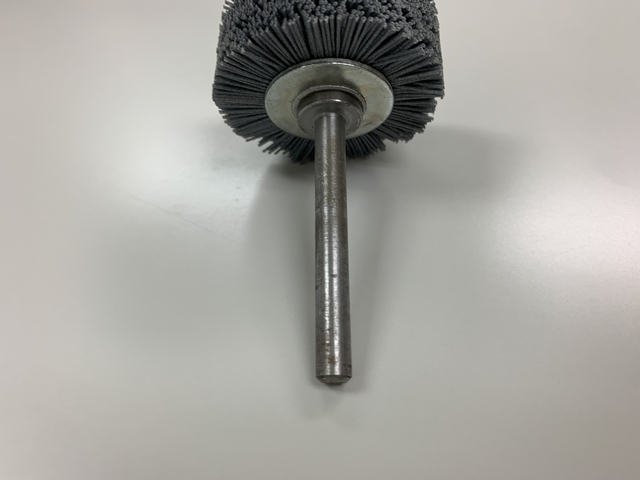Wheel Brush: (177, 1, 458, 394)
